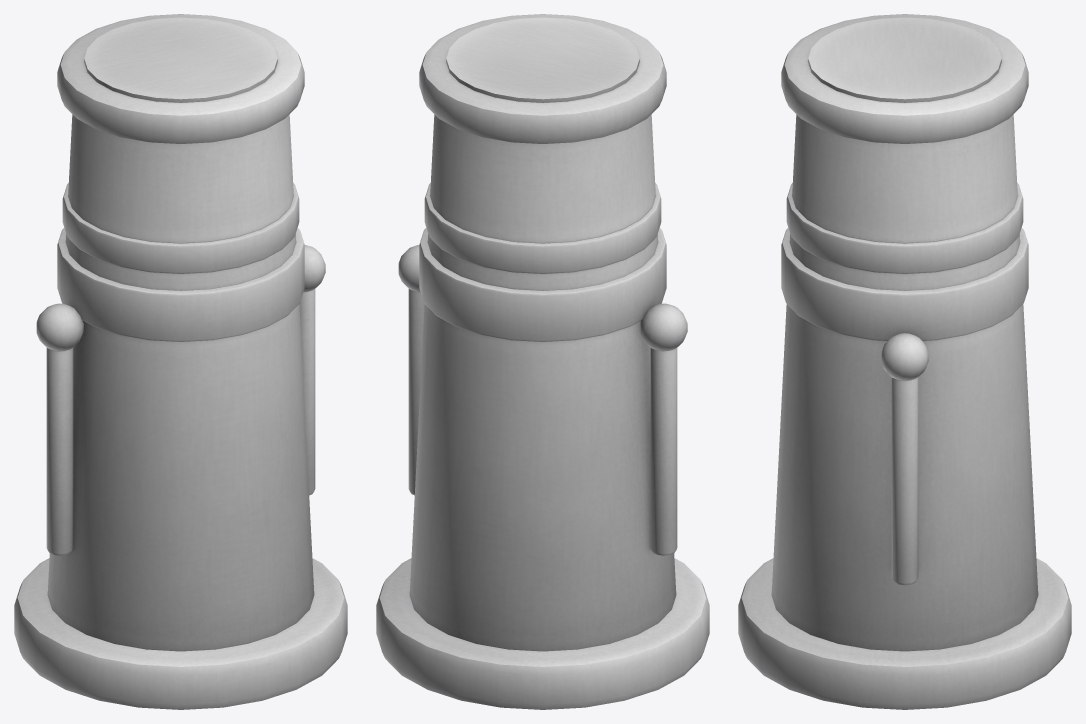
Rendered from ShipFunnel.fbx.
3 renders of one model, left to right at view 1: azimuth 30°, elevation 25°; view 2: azimuth 150°, elevation 25°; view 3: azimuth 270°, elevation 25°, orthographic.
Visible parts, largest first — view 1: ShipFunnel; view 2: ShipFunnel; view 3: ShipFunnel.
Part boxes in pixels (x1,y1,x2,y2): ShipFunnel: (14,14,347,709); ShipFunnel: (376,14,709,709); ShipFunnel: (738,14,1071,709).
Size of the model in its own units: 1.24 by 2.41 by 1.24.
